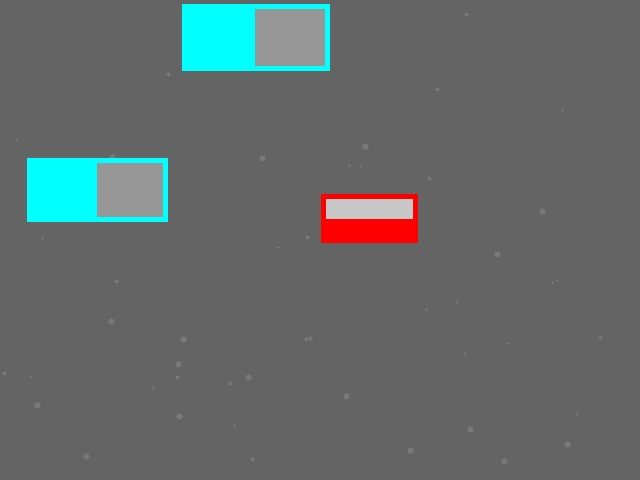car: (321, 194, 417, 242)
truck: (182, 4, 329, 70), (27, 158, 167, 221)
